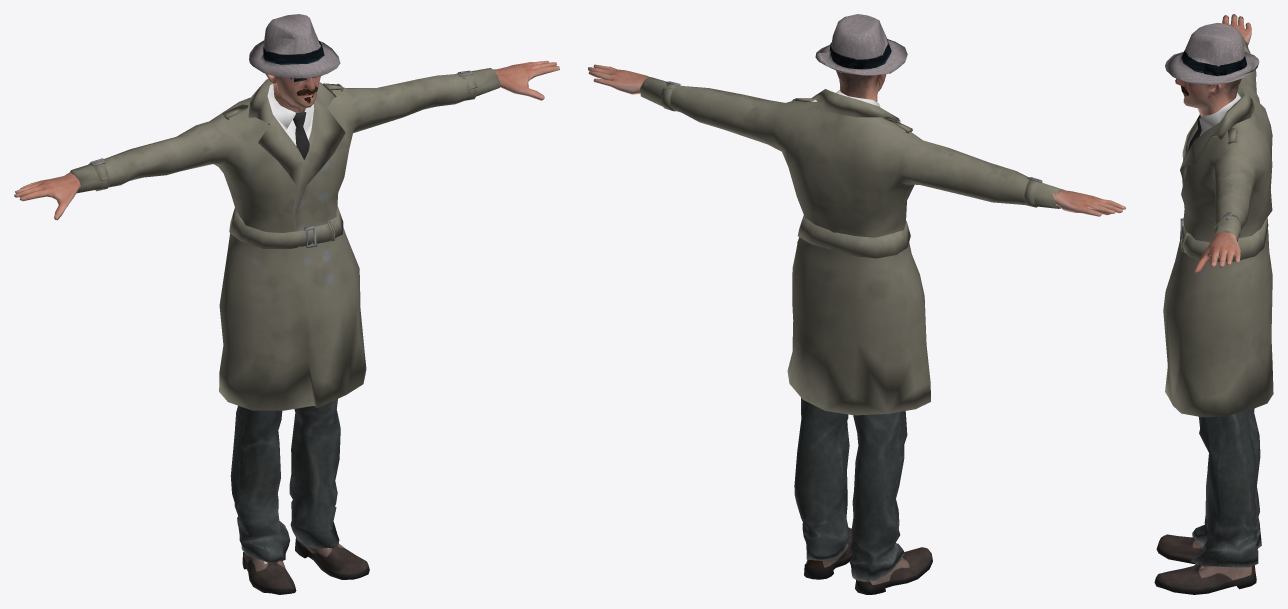
Rendered from TrenchCoatGuy.fbx.
The picture shows the model from 3 angles, left to right: view 1: azimuth 30°, elevation 25°; view 2: azimuth 150°, elevation 25°; view 3: azimuth 270°, elevation 25°; orthographic projection. The views are drawn at different scales.
Parts seen in each view (by area): view 1: TrenchCoatGuy; view 2: TrenchCoatGuy; view 3: TrenchCoatGuy.
Part boxes in pixels (<box>): TrenchCoatGuy: <box>14,14,559,594</box>; TrenchCoatGuy: <box>588,14,1125,594</box>; TrenchCoatGuy: <box>1154,14,1273,594</box>.
Size of the model in its own units: 19314 by 18961 by 3771.
1 material, 1 textured.
